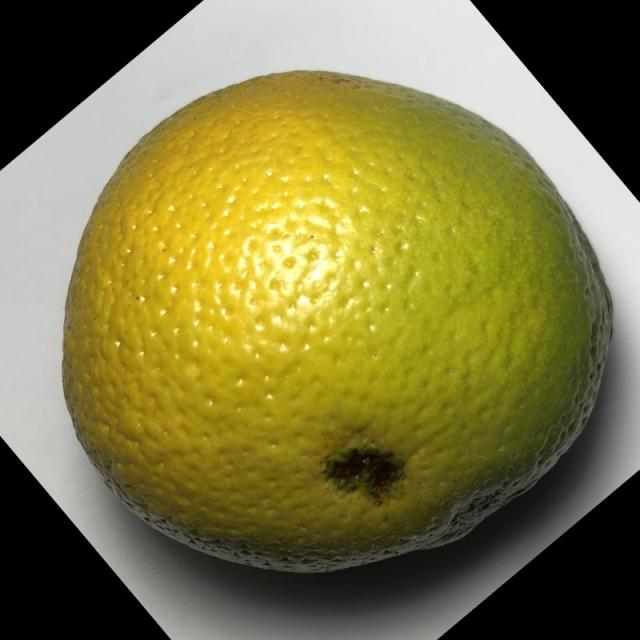canker: (56, 62, 625, 595)
